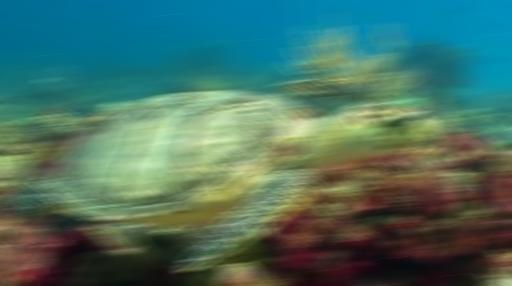Fish: (6, 91, 435, 271)
